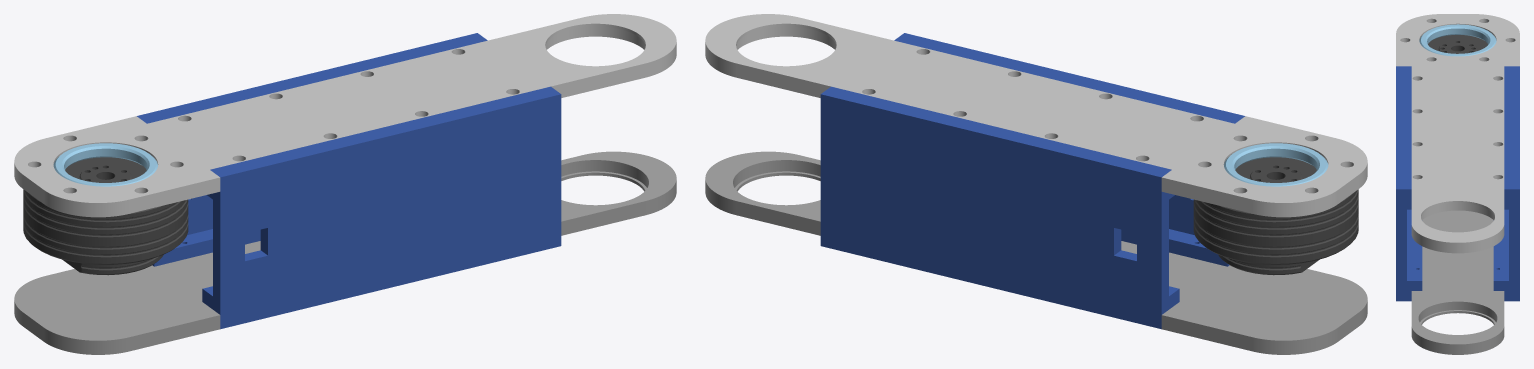
The model's file is Elbow_URDF.dae.
3 renders of one model, left to right at view 1: azimuth 30°, elevation 25°; view 2: azimuth 150°, elevation 25°; view 3: azimuth 270°, elevation 25°, orthographic. The views are drawn at different scales.
Parts seen in each view (by area): view 1: bottomPlate, outerPlate, innerPlate, motah, topPlate, Part 1; view 2: topPlate, outerPlate, innerPlate, motah, bottomPlate, Part 1; view 3: outerPlate, innerPlate, topPlate, bottomPlate, Part 1, motah.
Part boxes in pixels (bbox=[...]): bottomPlate: bbox=[202, 86, 561, 329]; outerPlate: bbox=[14, 14, 676, 217]; innerPlate: bbox=[14, 151, 676, 354]; motah: bbox=[23, 157, 188, 275]; topPlate: bbox=[137, 33, 487, 266]; Part 1: bbox=[53, 143, 157, 186]; topPlate: bbox=[820, 86, 1179, 329]; outerPlate: bbox=[705, 14, 1367, 217]; innerPlate: bbox=[705, 151, 1367, 354]; motah: bbox=[1193, 157, 1358, 275]; bottomPlate: bbox=[894, 33, 1244, 266]; Part 1: bbox=[1224, 143, 1328, 186]; outerPlate: bbox=[1396, 14, 1519, 253]; innerPlate: bbox=[1411, 210, 1504, 354]; topPlate: bbox=[1493, 66, 1519, 301]; bottomPlate: bbox=[1396, 66, 1422, 301]; Part 1: bbox=[1419, 24, 1496, 56]; motah: bbox=[1428, 35, 1487, 53].
Size of the model in its own units: 0.35 by 0.08 by 0.08.
